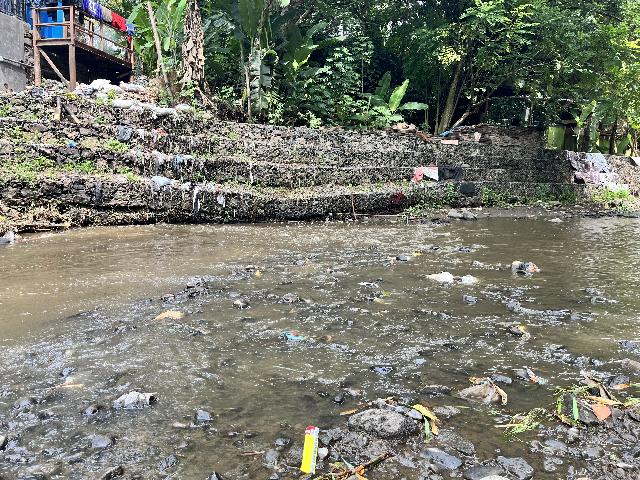Sampah Anorganik: (456, 380, 513, 405), (303, 426, 318, 476), (508, 257, 542, 279), (278, 325, 306, 344), (525, 368, 550, 387), (424, 270, 452, 281), (459, 274, 476, 285), (358, 282, 380, 289), (410, 251, 423, 256), (325, 268, 332, 272)
Sampah Organik: (334, 392, 443, 435), (556, 376, 640, 423), (31, 383, 83, 392), (149, 309, 184, 322), (155, 292, 178, 301), (240, 449, 269, 456), (373, 293, 390, 303), (515, 325, 529, 337), (251, 267, 263, 277), (288, 296, 300, 303), (322, 282, 336, 287), (305, 258, 313, 264), (389, 259, 394, 265)
